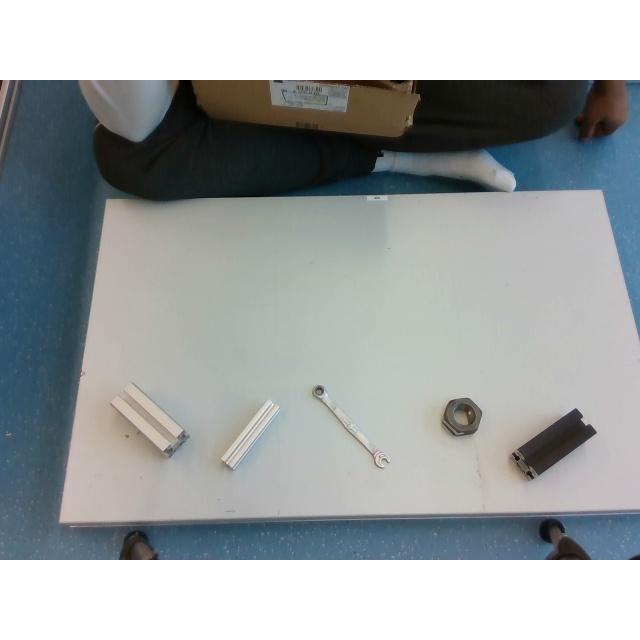F20_20_G: (220, 400, 280, 470)
M30: (442, 396, 482, 436)
S40_40_B: (511, 408, 595, 478)
S40_40_G: (110, 384, 188, 456)
Wrench: (313, 384, 392, 468)
